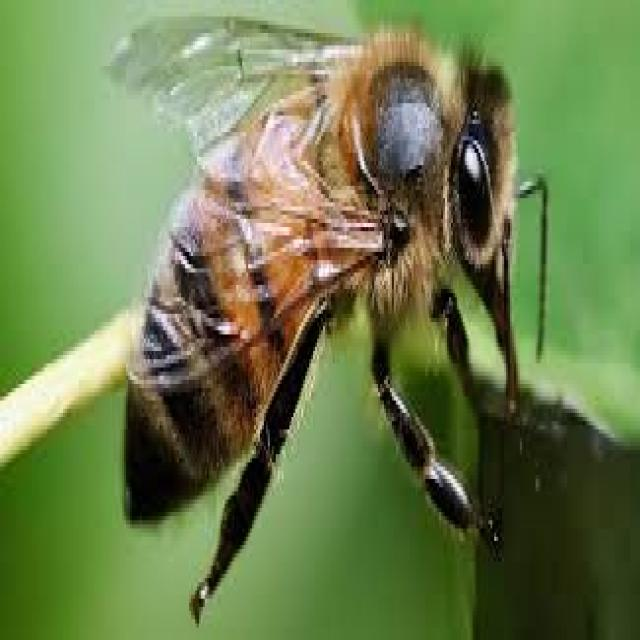Bees: (115, 19, 549, 621)
